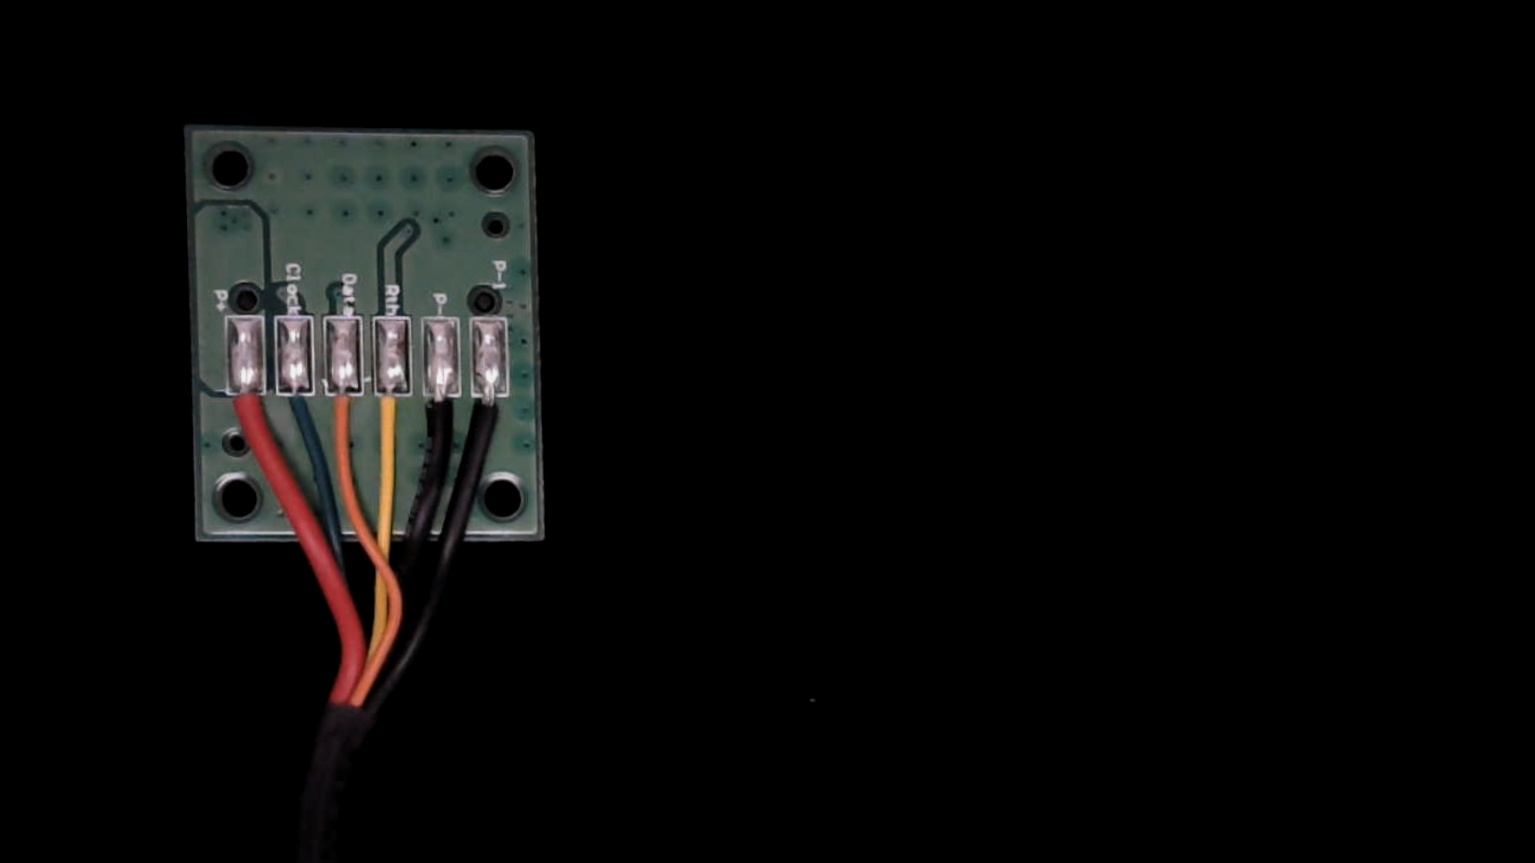Black: (421, 378, 456, 455)
Black1: (470, 379, 510, 452)
Green: (275, 377, 318, 443)
Orange: (326, 376, 365, 448)
Red: (224, 378, 268, 449)
Yellow: (371, 377, 412, 456)
